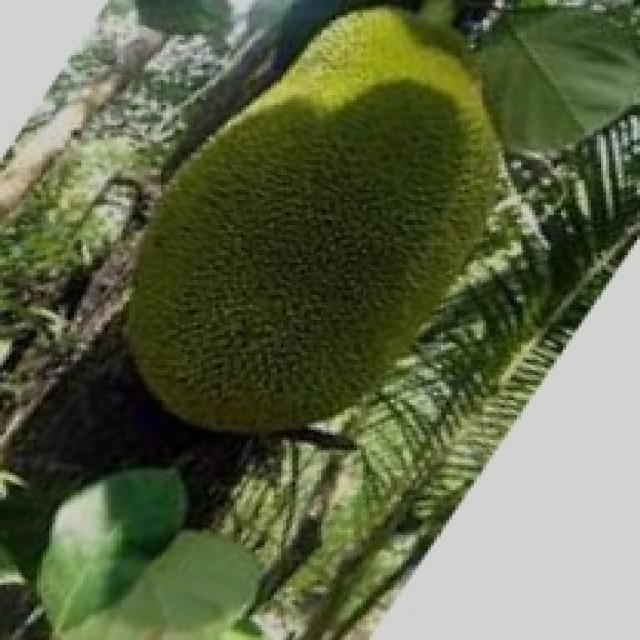Fruit: (129, 0, 551, 360)
